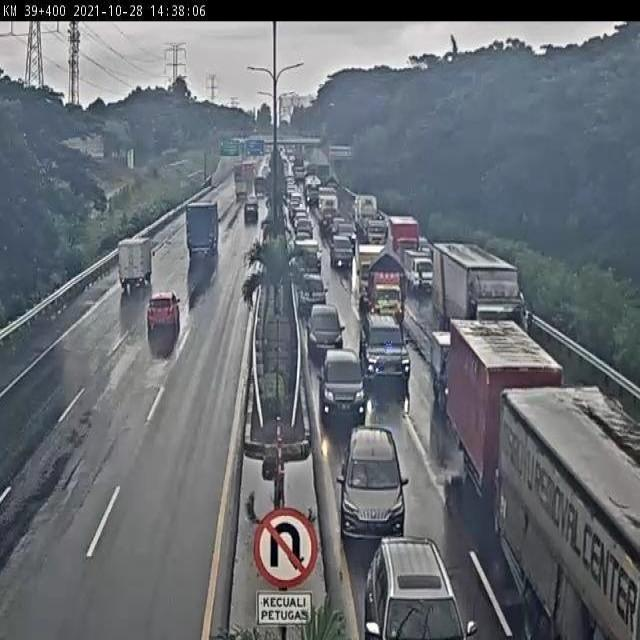Car: (357, 541, 477, 640), (339, 420, 414, 549), (358, 307, 414, 380), (317, 352, 373, 422), (140, 293, 183, 337), (304, 306, 341, 355), (298, 274, 328, 310), (296, 239, 322, 275), (332, 236, 353, 266), (242, 199, 264, 224), (295, 222, 314, 244)
Truck: (495, 364, 639, 636), (427, 307, 558, 488), (426, 240, 532, 332), (354, 254, 401, 317), (179, 197, 224, 257), (113, 237, 156, 288), (404, 240, 437, 290), (352, 192, 387, 230), (390, 209, 420, 249), (232, 164, 254, 202)
